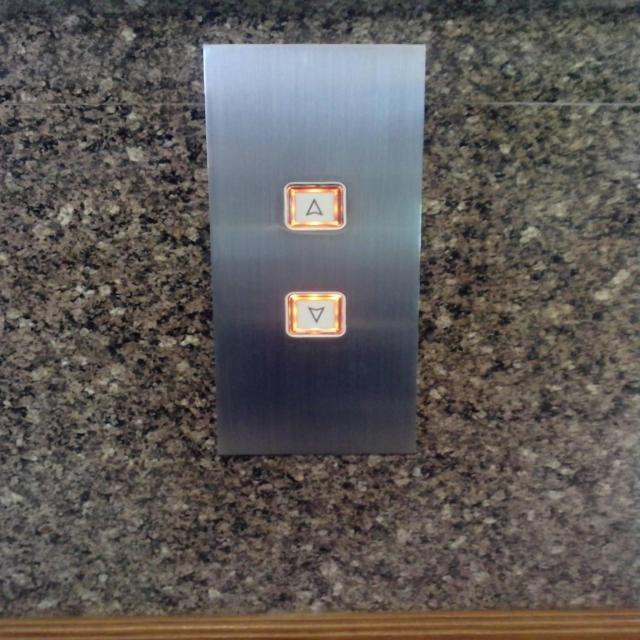down: (282, 288, 349, 340)
up: (280, 180, 348, 232)
